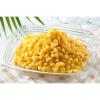corn: (13, 29, 89, 76)
